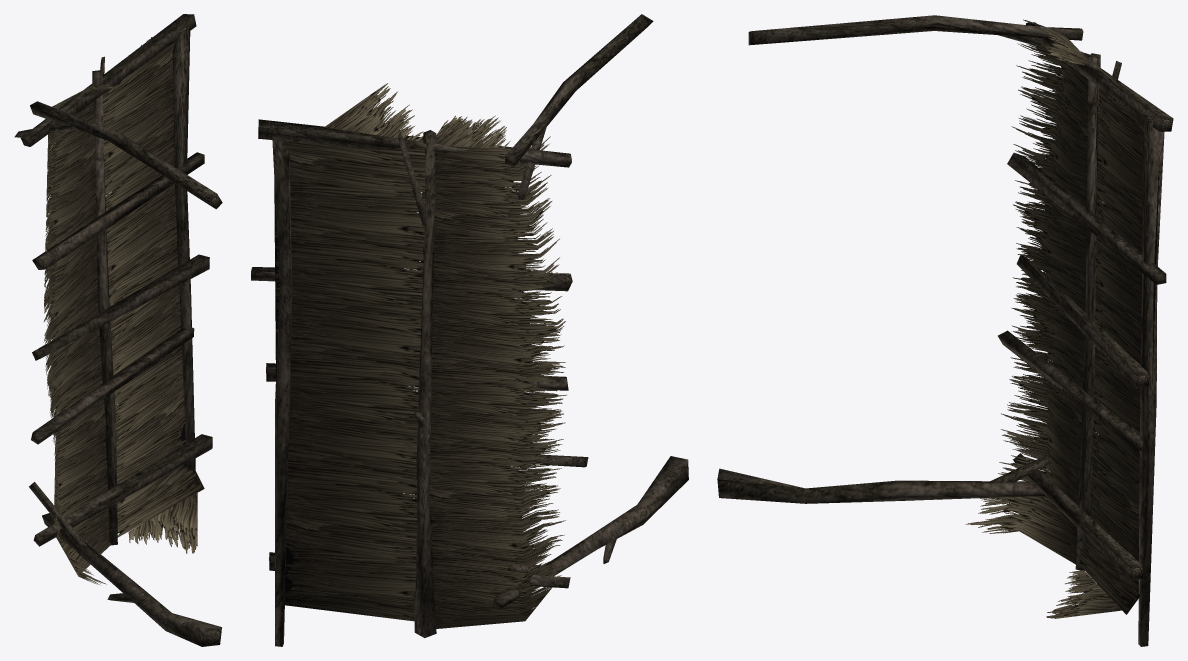
The model's file is MEP_Roof_01.fbx.
3 views of the same model, side by side, from view 1: azimuth 30°, elevation 25°; view 2: azimuth 150°, elevation 25°; view 3: azimuth 270°, elevation 25° (orthographic). The views are drawn at different scales.
Visible parts, largest first — view 1: MEP_Roof_01; view 2: MEP_Roof_01; view 3: MEP_Roof_01.
Part boxes in pixels (box(x1,y1,x2,y2)): MEP_Roof_01: box(14, 14, 222, 646); MEP_Roof_01: box(251, 14, 688, 646); MEP_Roof_01: box(717, 15, 1173, 646).
Size of the model in its own units: 2.67 by 5.46 by 4.02.
